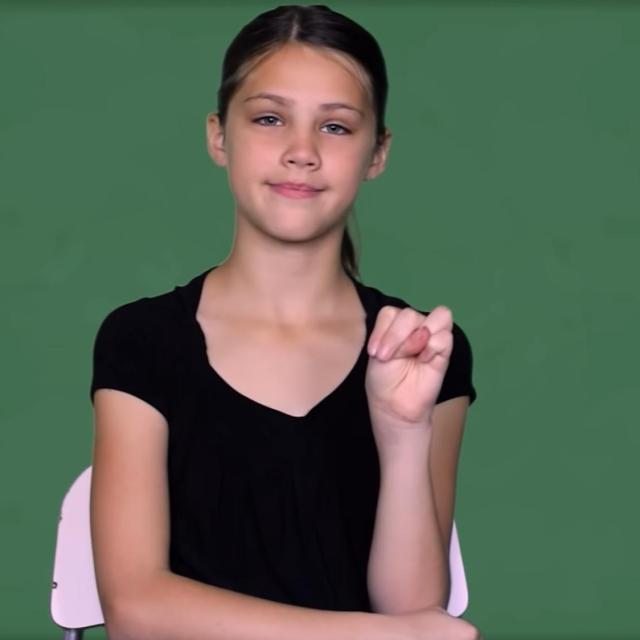N: (360, 301, 458, 421)
